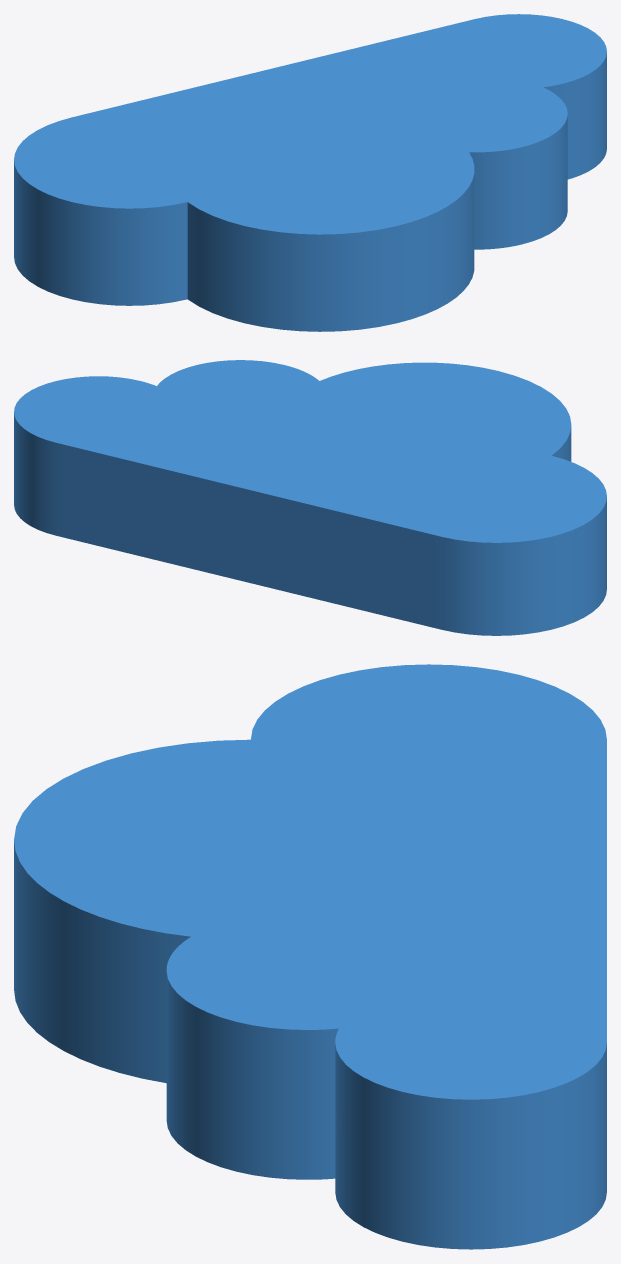
File: generic_cloud.glb
3 renders of one model, top to bottom at view 1: azimuth 30°, elevation 25°; view 2: azimuth 150°, elevation 25°; view 3: azimuth 270°, elevation 25°, orthographic. The views are drawn at different scales.
Visible parts, largest first — view 1: cloud; view 2: cloud; view 3: cloud.
Part boxes in pixels (bbox=[...]): cloud: bbox=[14, 14, 606, 331]; cloud: bbox=[14, 360, 606, 635]; cloud: bbox=[14, 664, 606, 1249].
Bounding box in the file's own units: 1.46 × 0.2344 × 0.8409.
